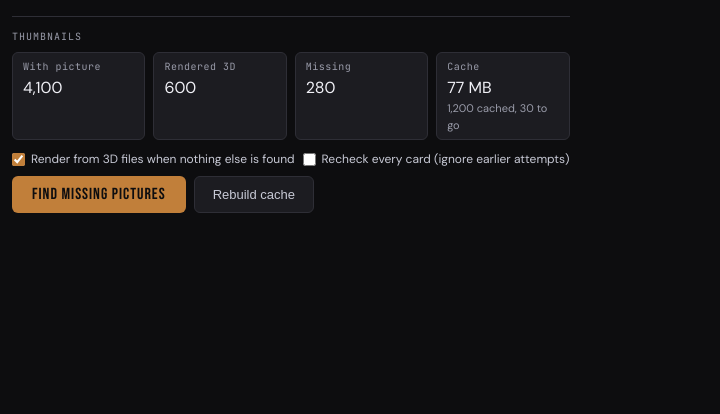
Test: an immediate stream error (409, job already running) is explained
Check: the text "4,100" is shown, box [23,77,62,98]
What coordinates should you click on to do the following:
click the button "Find missing pictures"
I would click on:
 (99, 194)
Its box is [12,176,186,213].
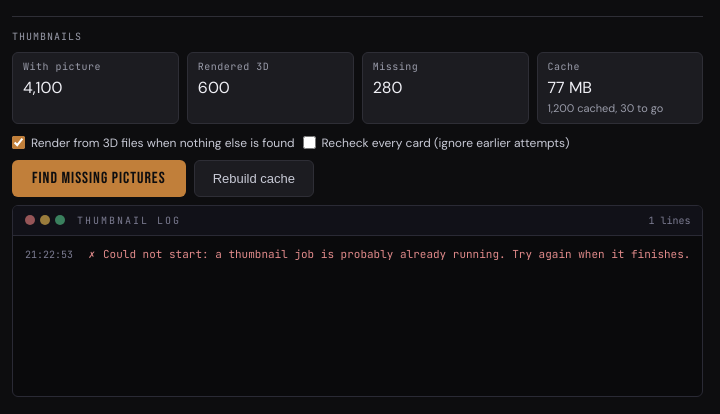
Check: the button "Find missing pictures" is enabled, box [12,160,186,196]
Check: the element named "THUMBNAIL LOG" shows "thumbnail job is probably already running", box [103,246,690,260]
